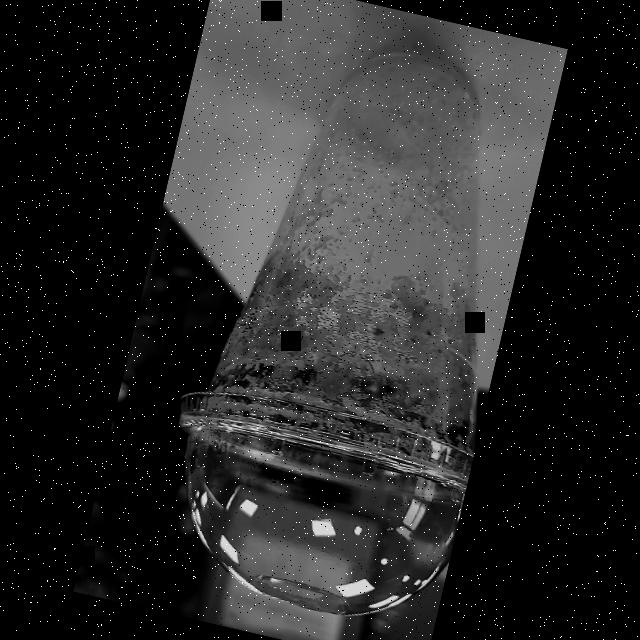plastic_cup: (143, 13, 560, 637)
plastic_cup_lid: (139, 368, 478, 638)
